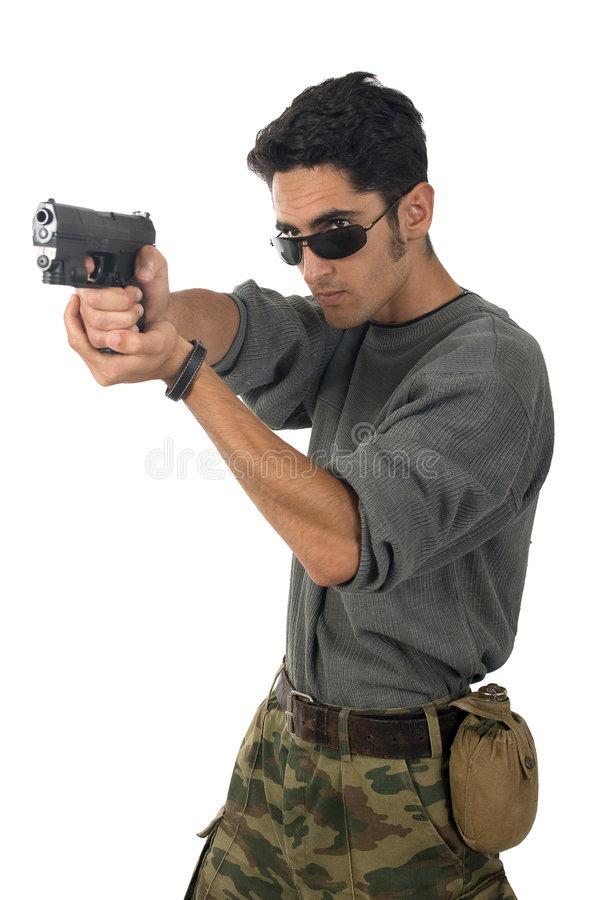criminal: (27, 64, 558, 900)
weapon: (26, 188, 168, 337)
